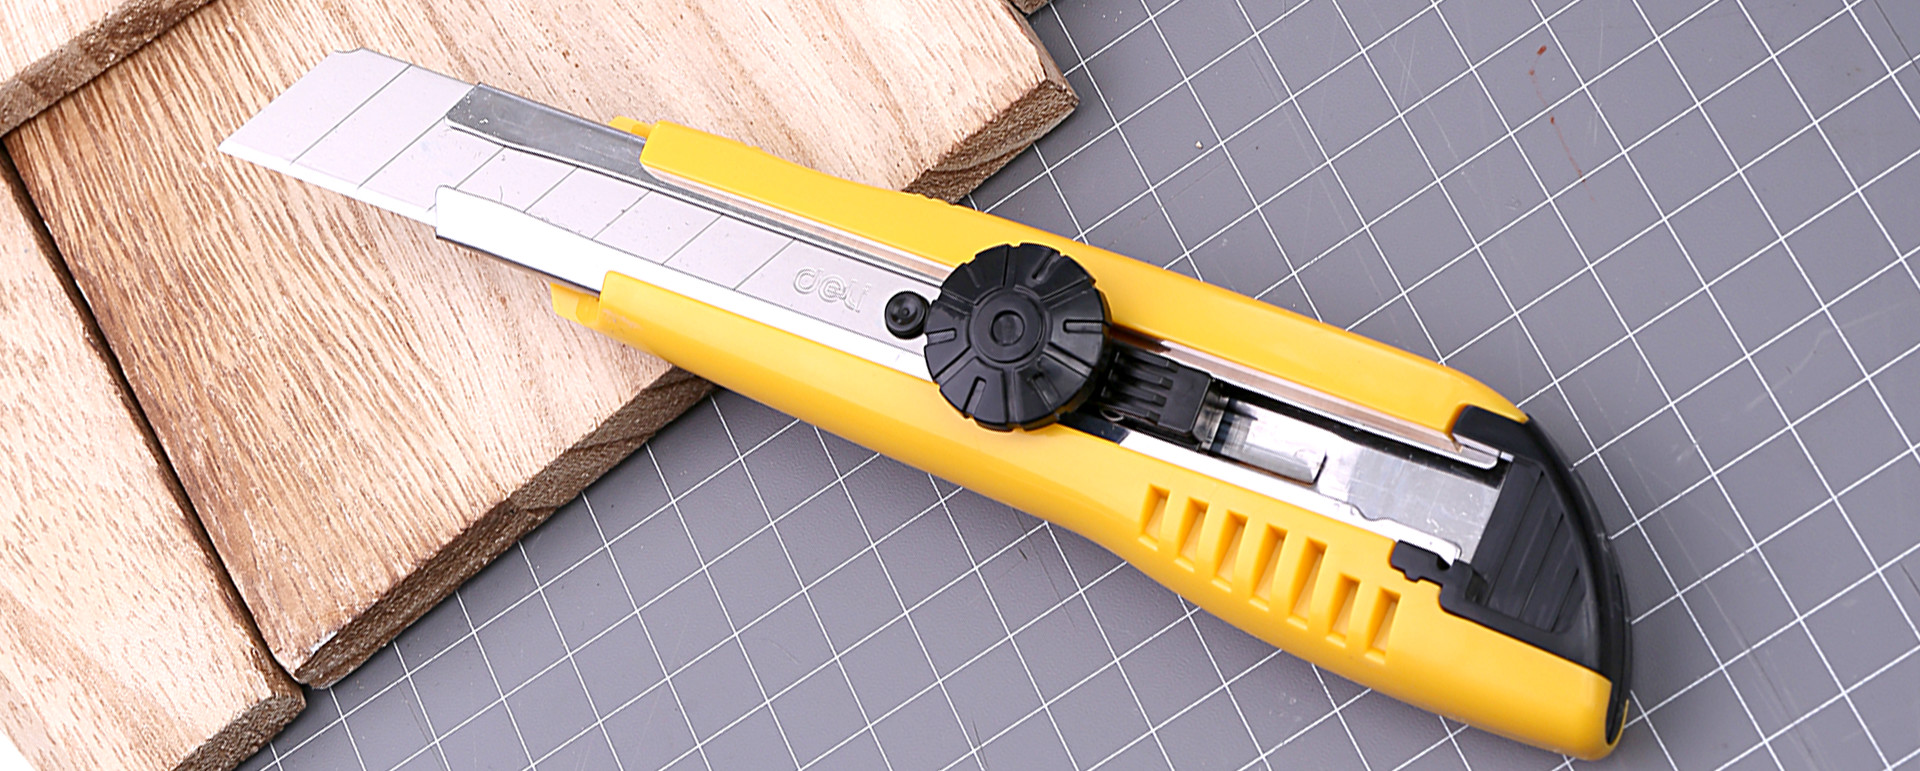cutter: (207, 47, 1637, 759)
